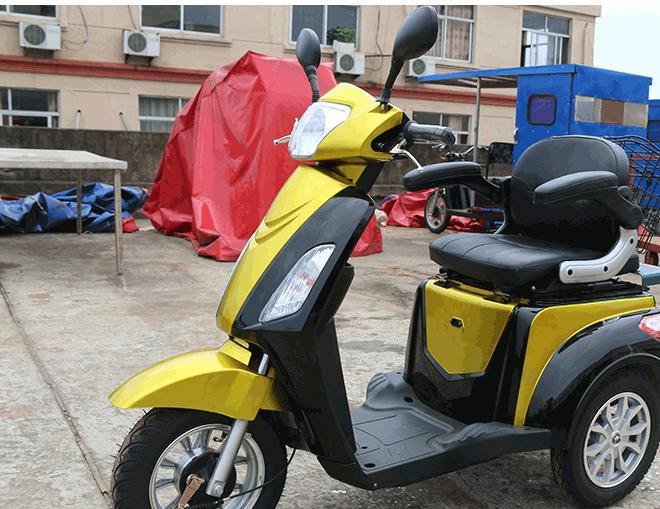电动车: (101, 5, 659, 509)
